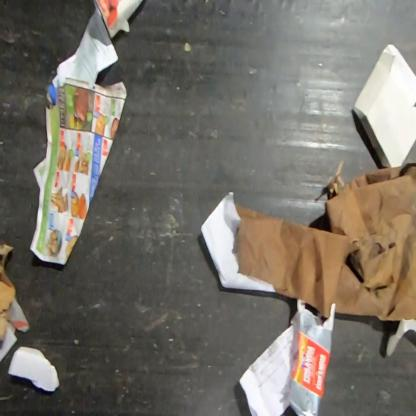cardboard: (352, 42, 415, 169), (94, 0, 145, 40), (0, 243, 18, 343)
rigid_plastic: (287, 307, 334, 415)
